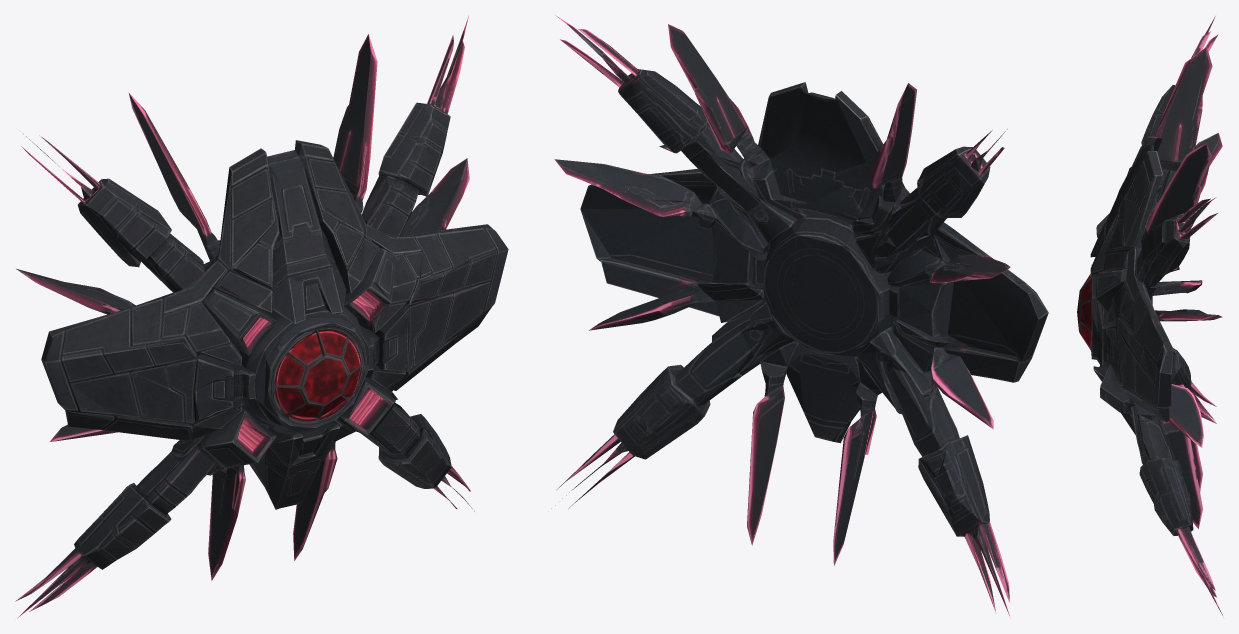
The model's file is UFO-v2.glb.
3 views of the same model, side by side, from view 1: azimuth 30°, elevation 25°; view 2: azimuth 150°, elevation 25°; view 3: azimuth 270°, elevation 25° (orthographic). The views are drawn at different scales.
Parts seen in each view (by area): view 1: output_unwrapped; view 2: output_unwrapped; view 3: output_unwrapped.
Part boxes in pixels (left/top/right/bottom): output_unwrapped: left=15, top=15, right=508, bottom=618; output_unwrapped: left=551, top=15, right=1048, bottom=618; output_unwrapped: left=1077, top=16, right=1223, bottom=617.
Size of the model in its own units: 1.81 by 1.9 by 0.5933.
Materials: 1 (1 with a texture image).
